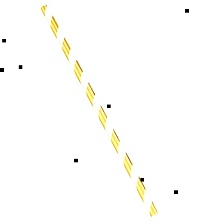drinking_straw: (35, 1, 164, 221)
